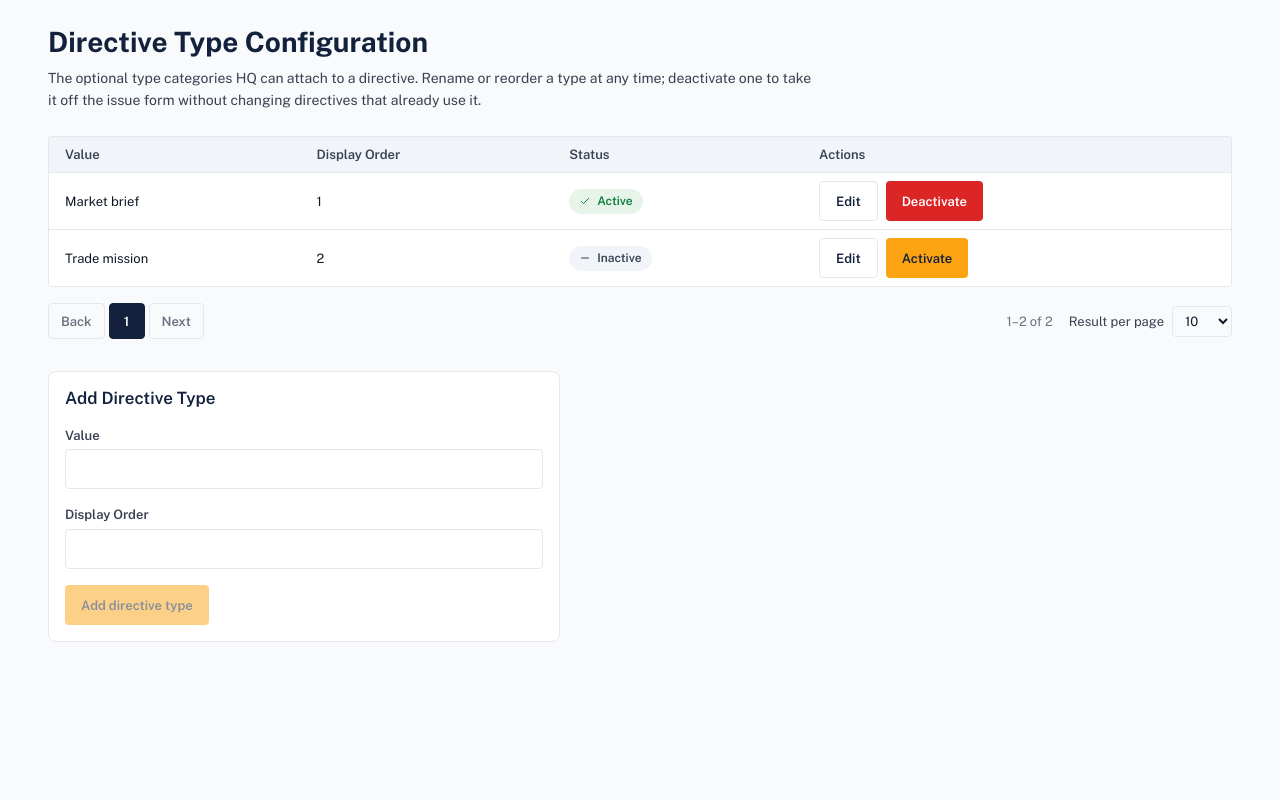
Test case: DirectiveSettingsConfigPage › TC-FR-DIR-001-E: reports a failed change instead of failing silently
Expected: the text "Market brief" is shown, [49,173,301,230]
Click the button with aria-label "Deactivate: Market brief": [934, 201] box [886,181,983,221]
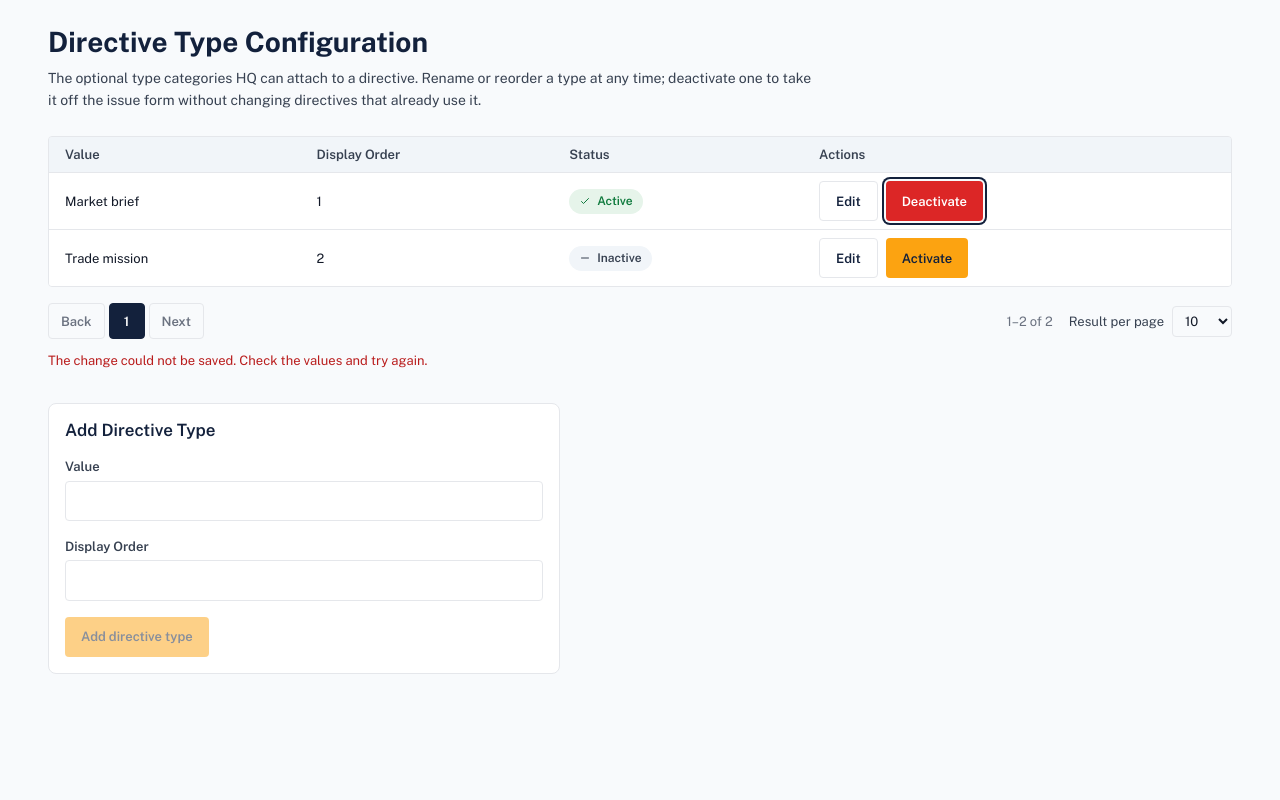
Expected: the message shows "The change could not be saved.", [48,353,427,368]
